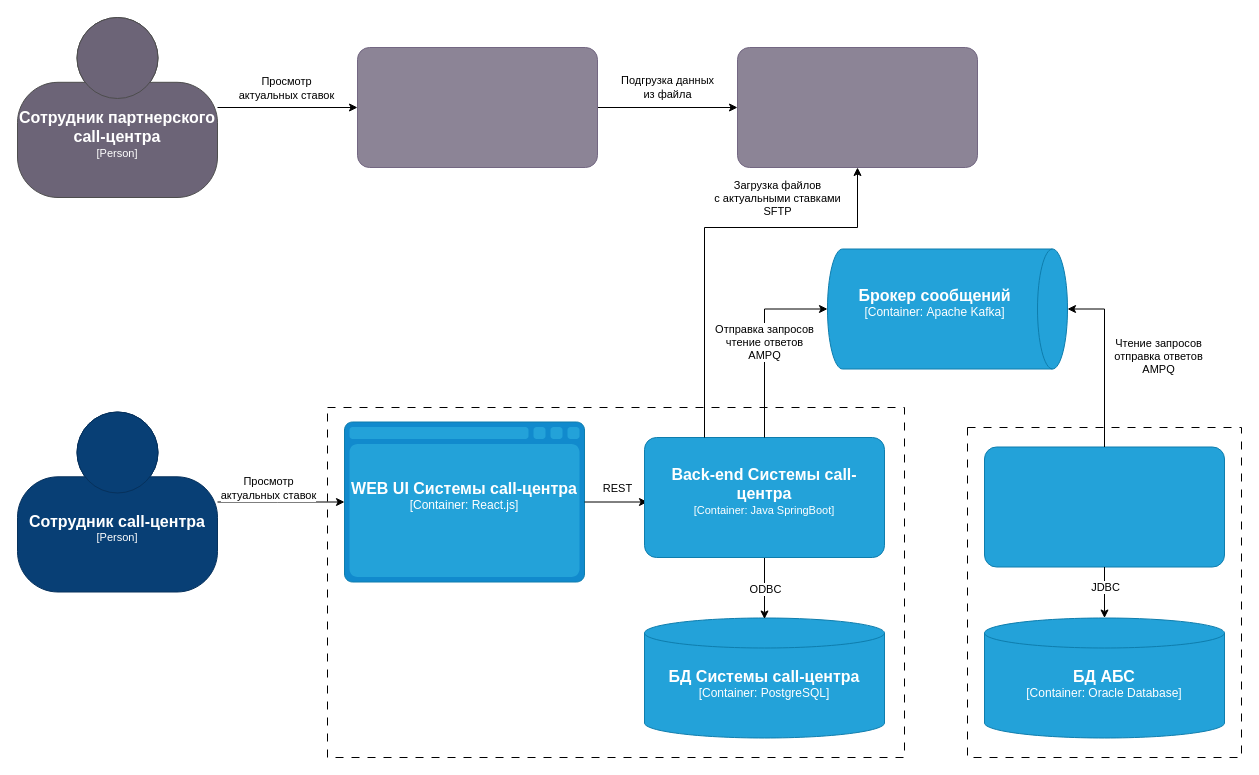
The diagram is 1259 pixels wide and 775 high, and some of its shapes have lost their labels. The shapes that lost their labels are listed below. From the top down, each one's centre as x and y in pixels, then its label:
At point (477, 107): "Система партнерского call-центра [Software System]".
At point (857, 107): "Файловое хранилище [Software System]".
At point (1104, 506): "АБС API (gateway) [Container: .net core]".
